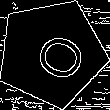O_NW: (19, 23, 84, 83)
